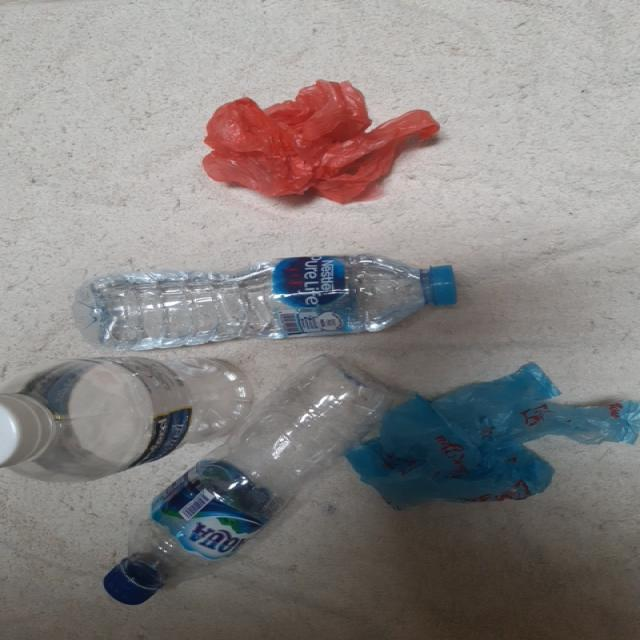Single-layer Plastic: (346, 362, 640, 508), (202, 80, 439, 202)
